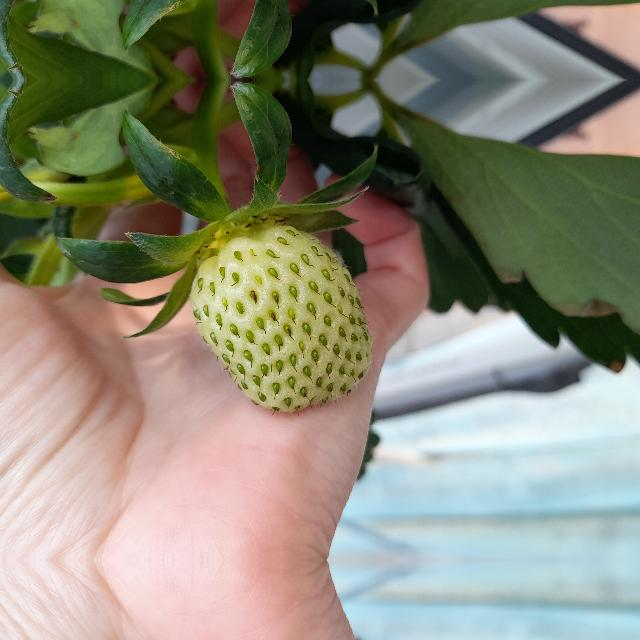Health_25: (188, 214, 372, 412)
